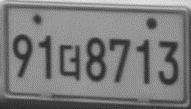1: (37, 35, 54, 80), (135, 38, 151, 85)
3: (156, 39, 179, 84)
7: (108, 37, 132, 84)
8: (85, 36, 107, 82)
9: (11, 33, 33, 79)
더: (58, 43, 82, 80)
